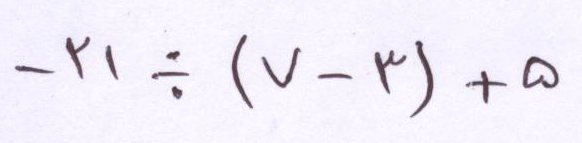character: (261, 47, 302, 101), (231, 34, 257, 112), (151, 51, 191, 101), (410, 41, 434, 120), (464, 70, 507, 109), (374, 50, 406, 100), (65, 34, 90, 79), (522, 56, 555, 88), (317, 73, 354, 94), (105, 45, 122, 82), (15, 65, 45, 78)
